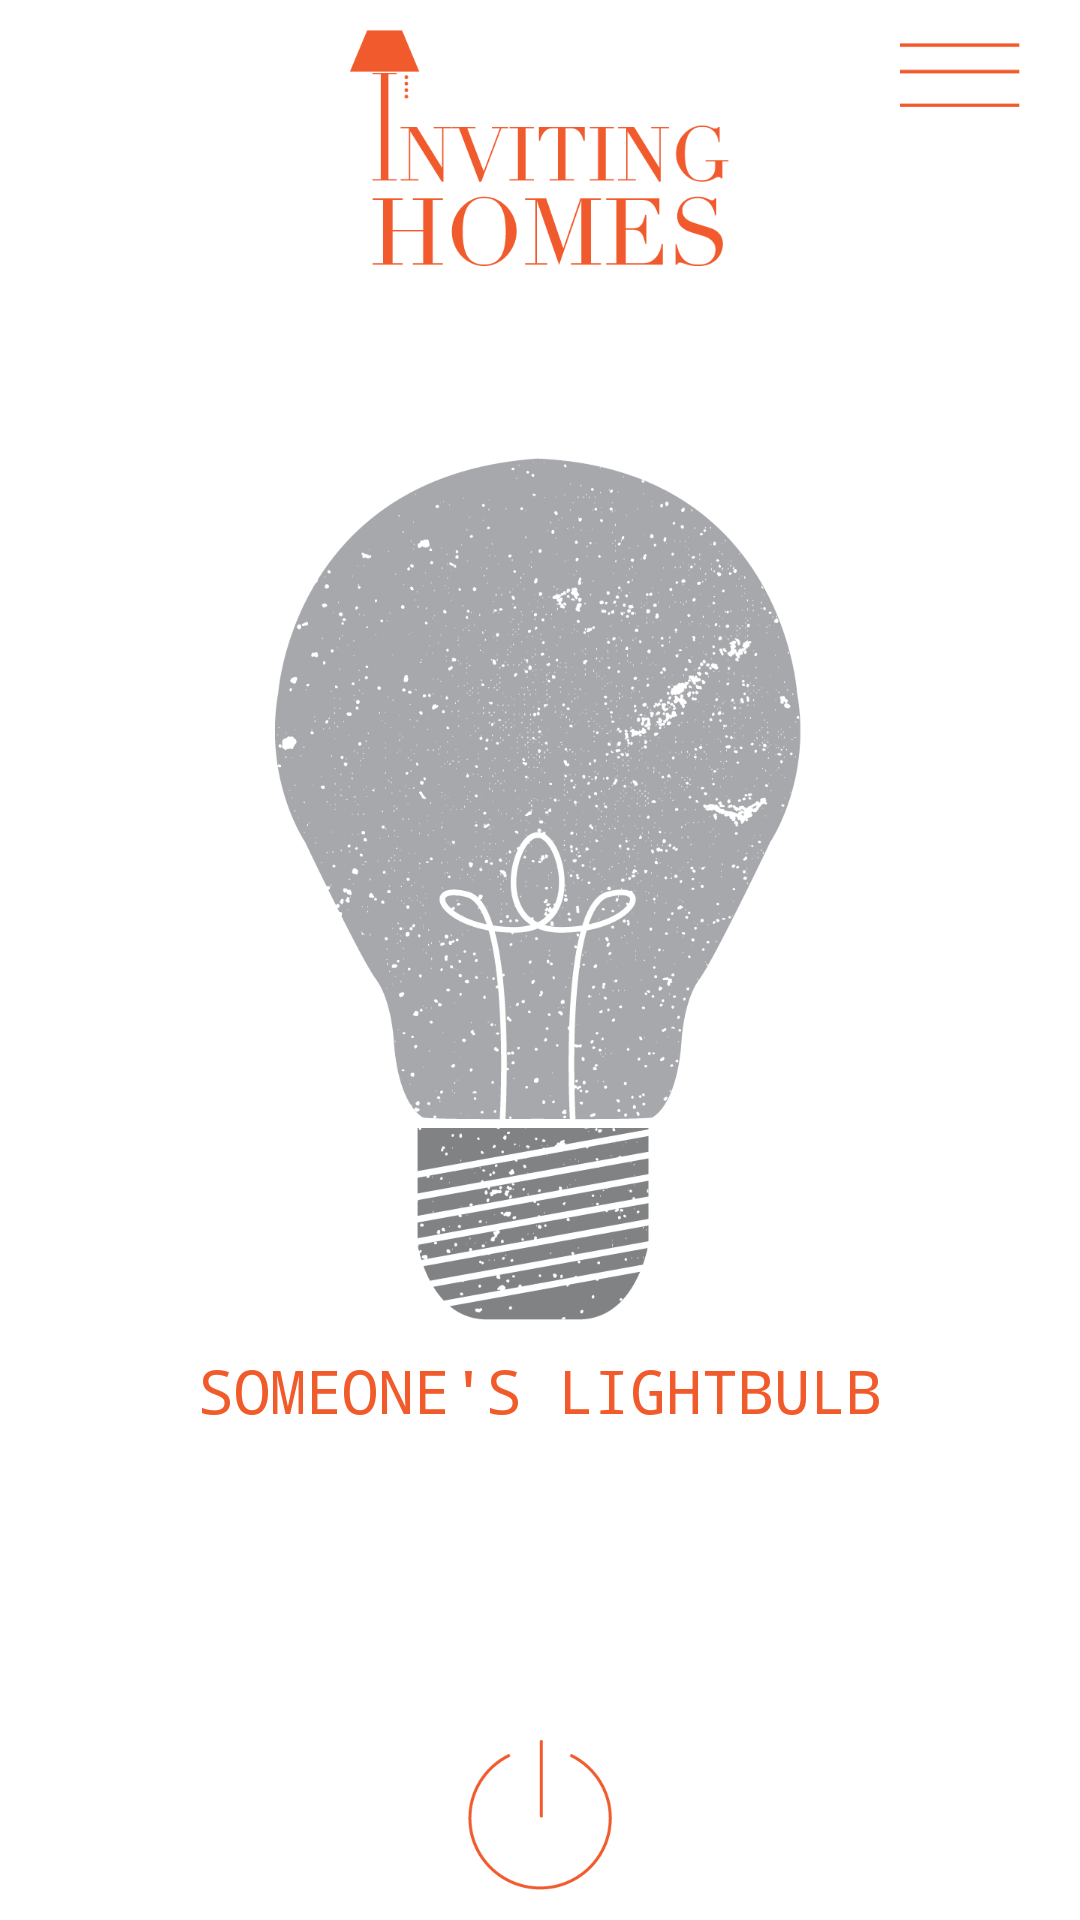

Icon click points for this 1080x1920 phone screenshot, format point (x, y):
menu: point (960, 75)
